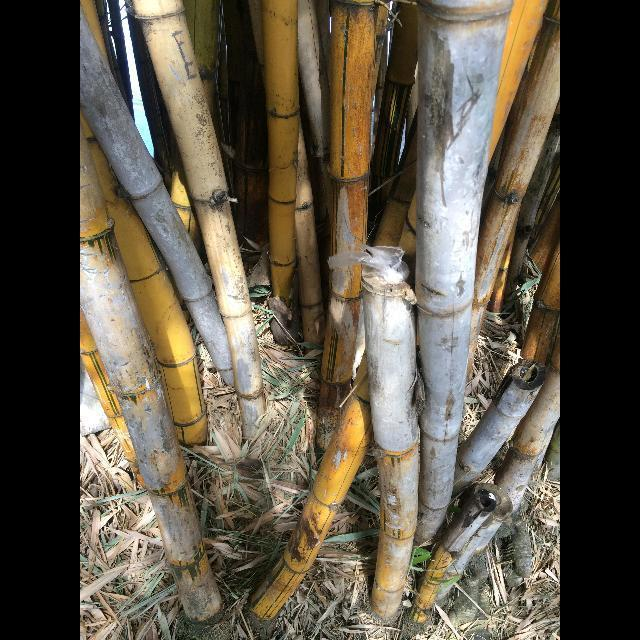Plastic: (328, 244, 408, 282)
